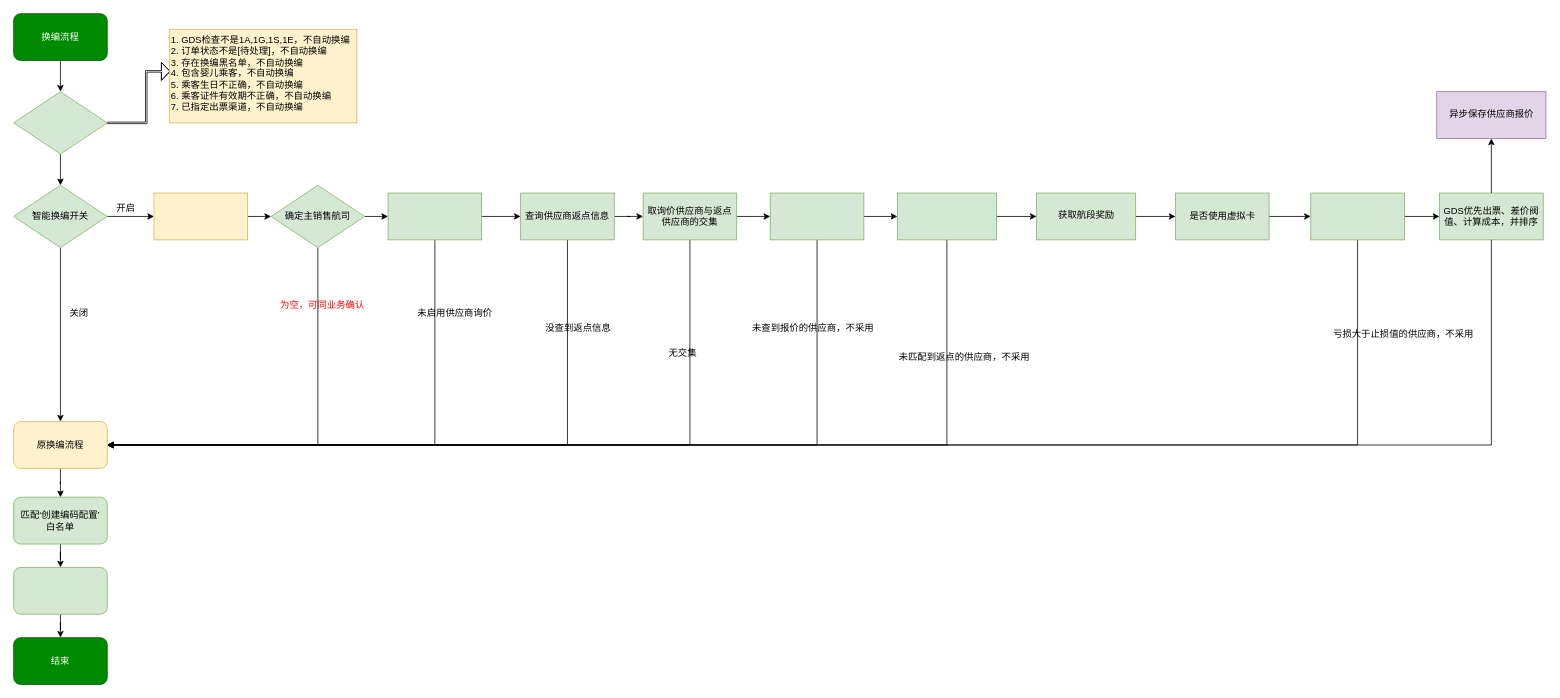
Some shapes in this 1560 by 698 pixel diagram are drawn without their labels. Each missing label, with the centre of its shape:
"利润止损校验" goes at point 1357,216.
"换编前置检查" goes at point 60,122.
"换编（失败重试）" goes at point 60,590.
"智能换编流程" goes at point 200,216.
"查询票价税费" goes at point 816,216.
"查询需询价的供应商" goes at point 434,216.
"计算供应商返点" goes at point 946,216.
